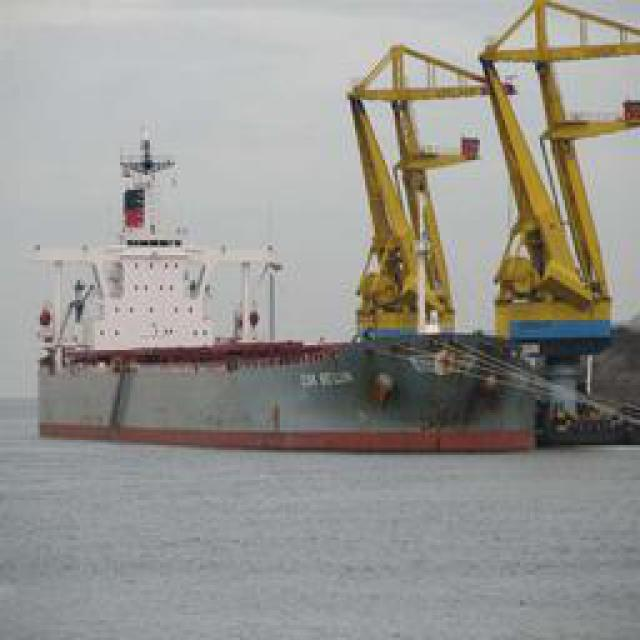Ship: (29, 65, 619, 455)
